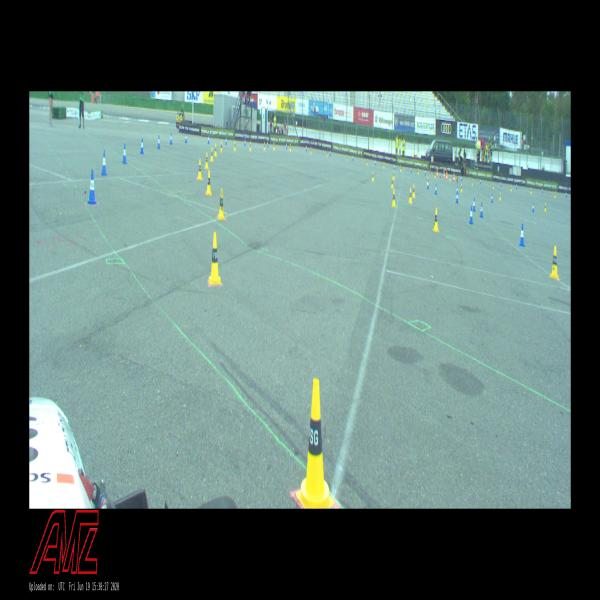blue_cone: (87, 170, 97, 204), (101, 150, 107, 176), (519, 224, 525, 246), (122, 144, 127, 164), (469, 206, 473, 224), (140, 138, 144, 154), (480, 202, 483, 217), (473, 198, 476, 212), (158, 135, 160, 149), (170, 133, 172, 144), (456, 192, 458, 203), (434, 184, 436, 194), (185, 133, 187, 142), (532, 203, 534, 212), (427, 180, 429, 189), (491, 194, 493, 202), (456, 186, 458, 194), (244, 138, 246, 146), (424, 169, 426, 176), (352, 154, 354, 160), (500, 181, 502, 187), (226, 137, 227, 145), (208, 136, 209, 144), (267, 140, 268, 148), (410, 168, 412, 172), (330, 149, 331, 156), (286, 143, 287, 149), (306, 145, 307, 151), (439, 172, 440, 178), (461, 176, 462, 182), (480, 178, 481, 184), (566, 192, 567, 198), (375, 160, 376, 165), (394, 164, 395, 169), (516, 184, 517, 189), (542, 189, 543, 193)
large_orange_cone: (443, 169, 445, 178), (436, 170, 438, 178), (446, 171, 447, 180), (453, 174, 454, 182)
yellow_cone: (296, 379, 334, 508), (209, 233, 222, 284), (550, 246, 559, 280), (218, 189, 225, 219), (433, 208, 439, 232), (206, 171, 212, 195), (197, 159, 202, 179), (392, 189, 396, 207), (210, 147, 214, 161), (409, 188, 412, 204), (205, 153, 208, 168), (214, 144, 217, 157), (412, 185, 415, 197), (391, 177, 393, 188), (220, 142, 222, 152), (234, 141, 236, 151), (273, 142, 275, 151), (544, 203, 546, 211), (372, 172, 374, 180), (393, 171, 395, 179), (326, 150, 328, 157), (417, 168, 419, 175), (499, 193, 501, 200), (310, 148, 312, 154), (383, 162, 385, 168), (449, 175, 451, 181), (510, 185, 512, 191), (530, 188, 532, 194), (554, 192, 556, 198), (492, 184, 494, 189), (461, 184, 462, 192), (250, 142, 251, 150), (264, 142, 265, 150), (290, 144, 291, 152), (427, 176, 428, 184), (367, 158, 368, 165), (400, 165, 401, 172), (471, 179, 472, 186), (347, 155, 348, 161), (435, 172, 436, 178)
